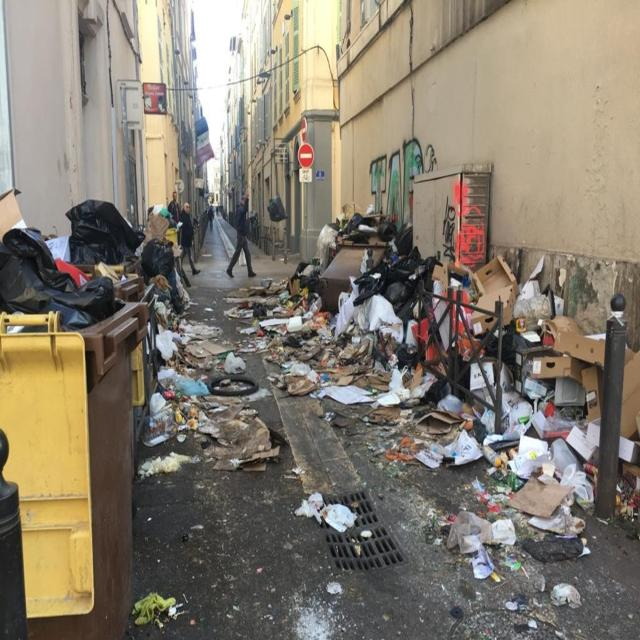garbage: (41, 247, 619, 639)
